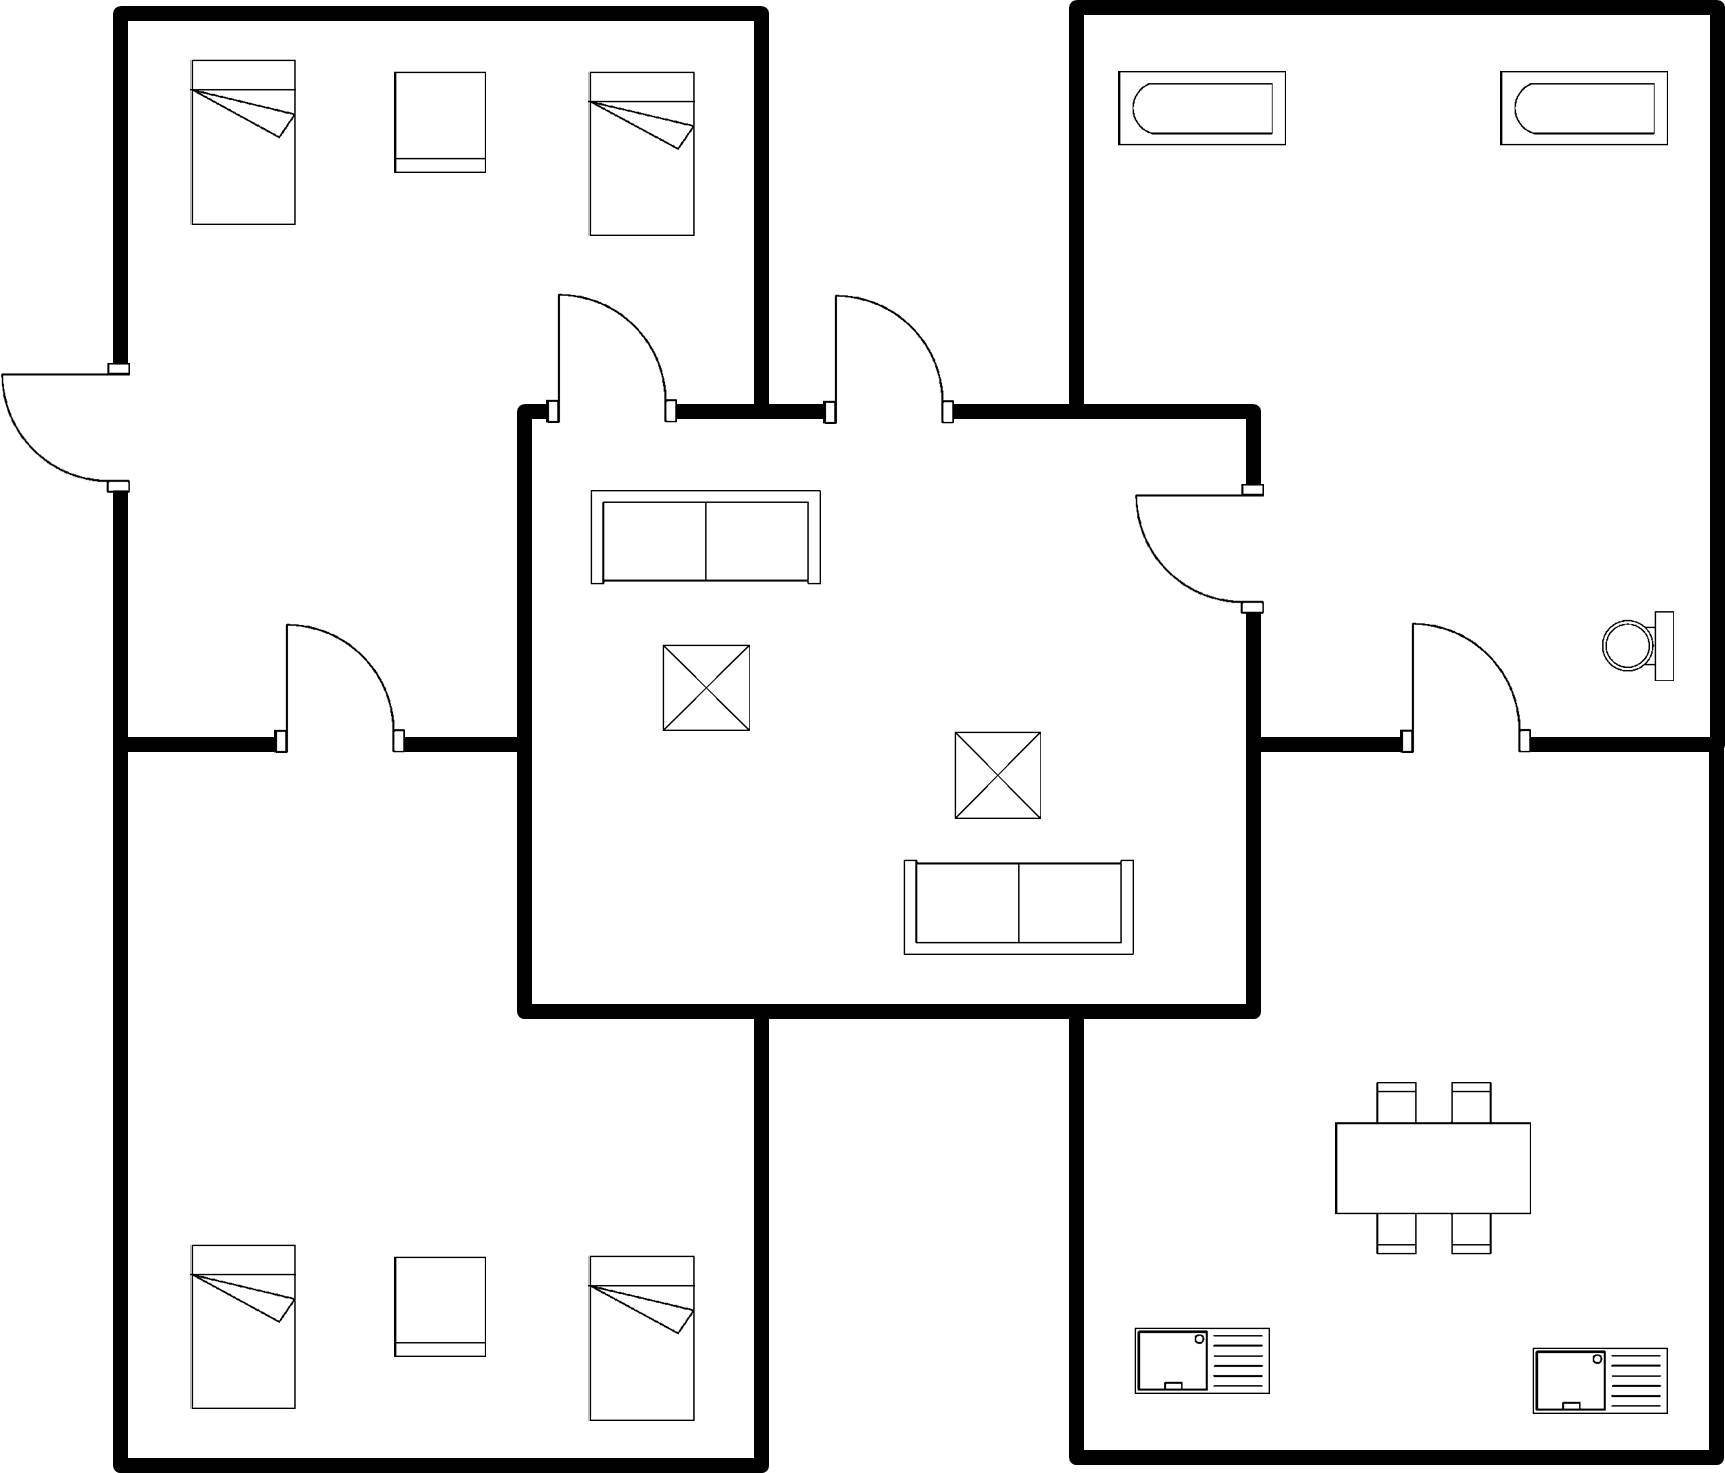bed: (574, 60, 712, 246), (577, 1248, 709, 1436), (183, 46, 306, 235), (183, 1235, 306, 1420), (384, 1246, 499, 1368)
coffee_table: (943, 718, 1052, 835), (653, 635, 762, 740)
dining_table: (1323, 1070, 1544, 1269)
large_sink: (1587, 599, 1687, 699)
large_sofa: (579, 480, 833, 600), (886, 848, 1150, 965)
sink: (1123, 1318, 1283, 1406), (1524, 1335, 1680, 1423)
small_sofa: (376, 1245, 497, 1372), (382, 59, 497, 188)
tub: (1492, 53, 1680, 162), (1104, 62, 1306, 158)
